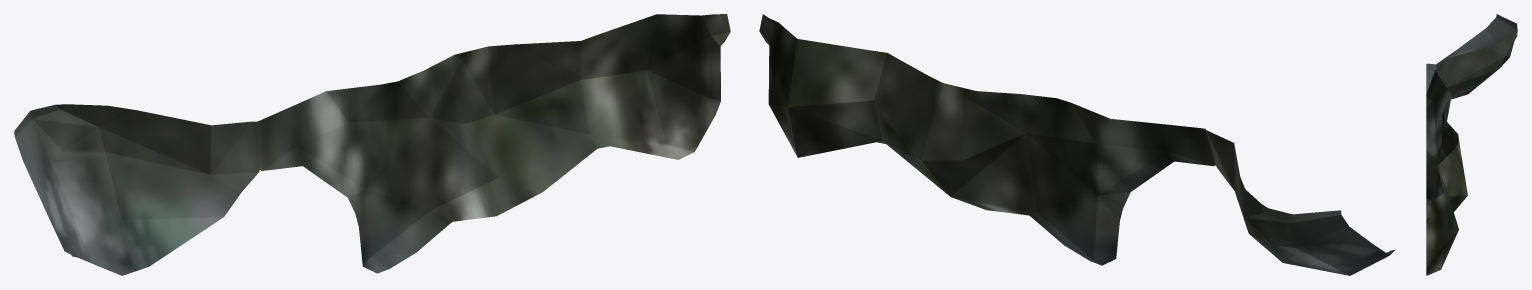
The picture shows the model from 3 angles, left to right: view 1: azimuth 30°, elevation 25°; view 2: azimuth 150°, elevation 25°; view 3: azimuth 270°, elevation 25°; orthographic projection. The views are drawn at different scales.
Size of the model in its own units: 0.7539 by 0.1907 by 0.15.
1 material, 1 textured.
